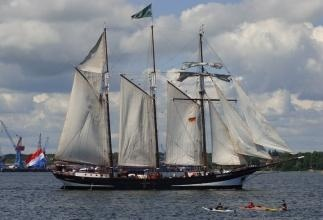fanchuan: (51, 19, 292, 188)
